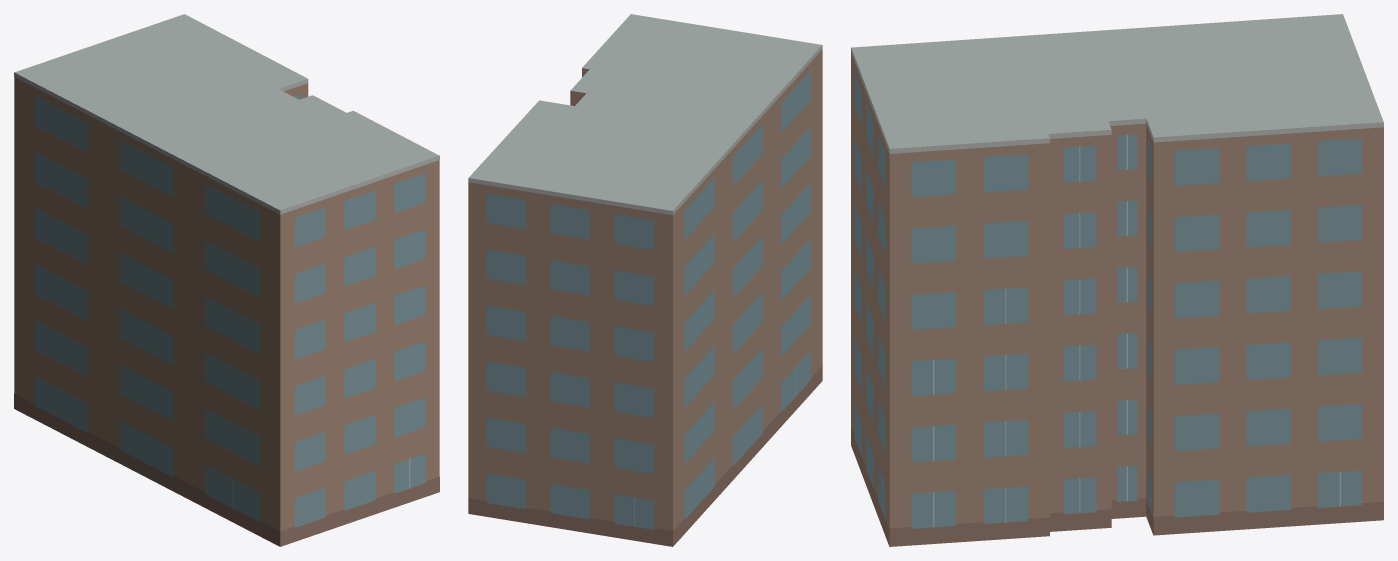
The model's file is survey-upis-32523722.glb.
3 views of the same model, side by side, from view 1: azimuth 30°, elevation 25°; view 2: azimuth 150°, elevation 25°; view 3: azimuth 270°, elevation 25° (orthographic). The views are drawn at different scales.
Visible parts, largest first — view 1: survey-upis-32523722.tmp; view 2: survey-upis-32523722.tmp; view 3: survey-upis-32523722.tmp.
Boxes of the visible parts, box(x1,y1,x2,y2) form: survey-upis-32523722.tmp: box(14, 14, 439, 546); survey-upis-32523722.tmp: box(468, 14, 822, 546); survey-upis-32523722.tmp: box(851, 14, 1383, 546).
Bounding box in the file's own units: 14.12 × 19.4 × 23.55.
